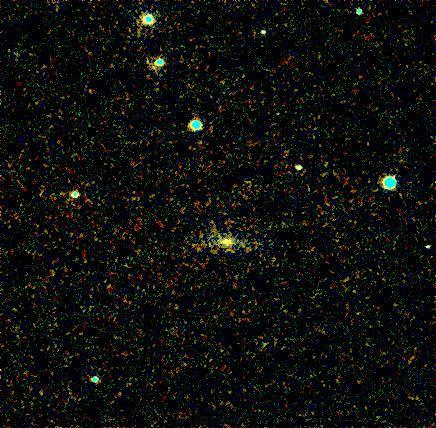star: (207, 228, 237, 258)
